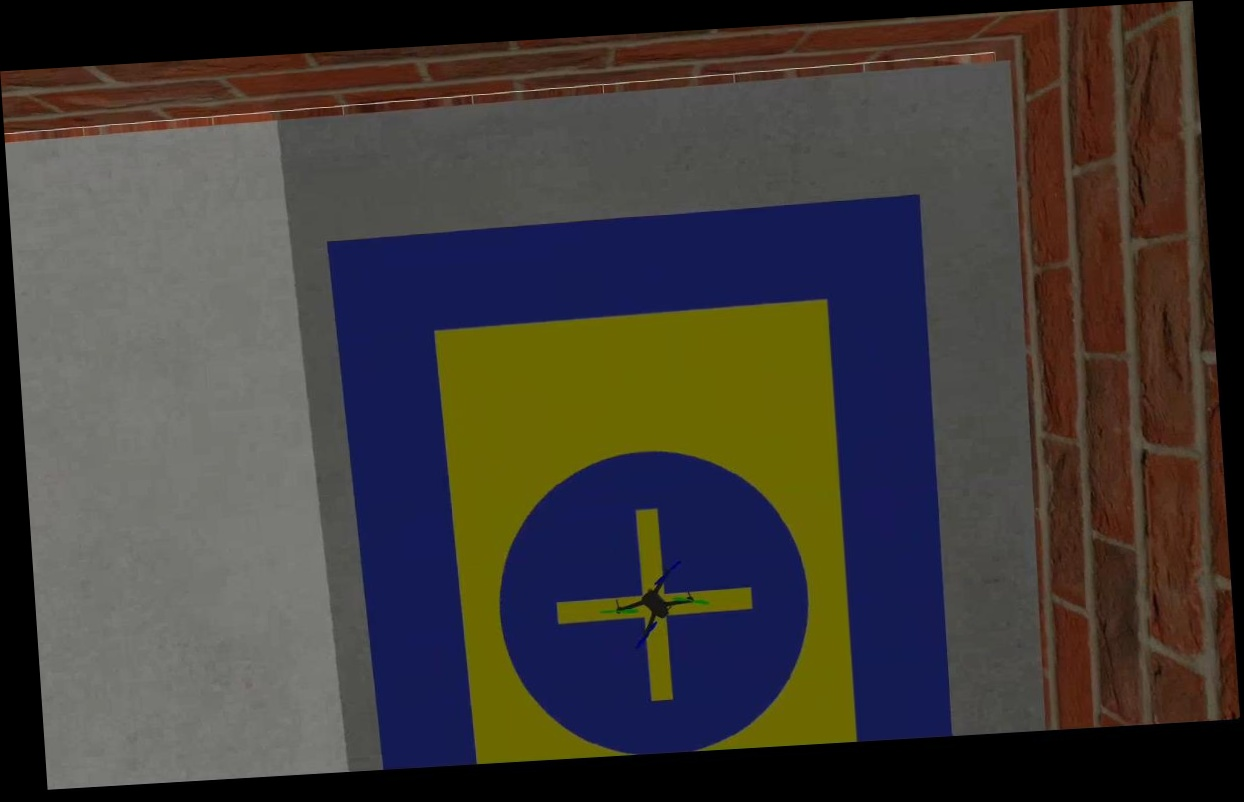large_base: (326, 198, 953, 772)
